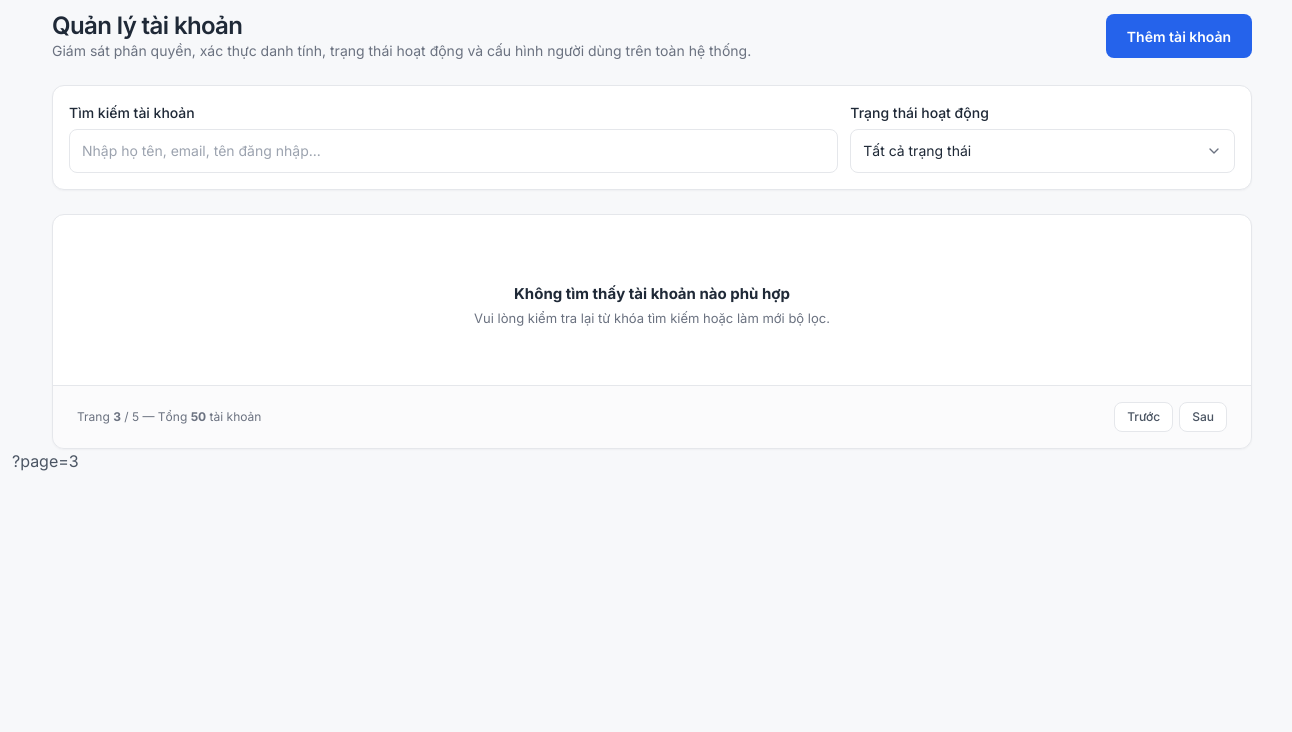
AdminAccountsPage filters live in the URL › changing a filter updates the URL and goes back to the first page
Select "Đang hoạt động" in the dropdown labelled "Trạng thái hoạt động": (1043, 151) x1=850 y1=129 x2=1235 y2=173
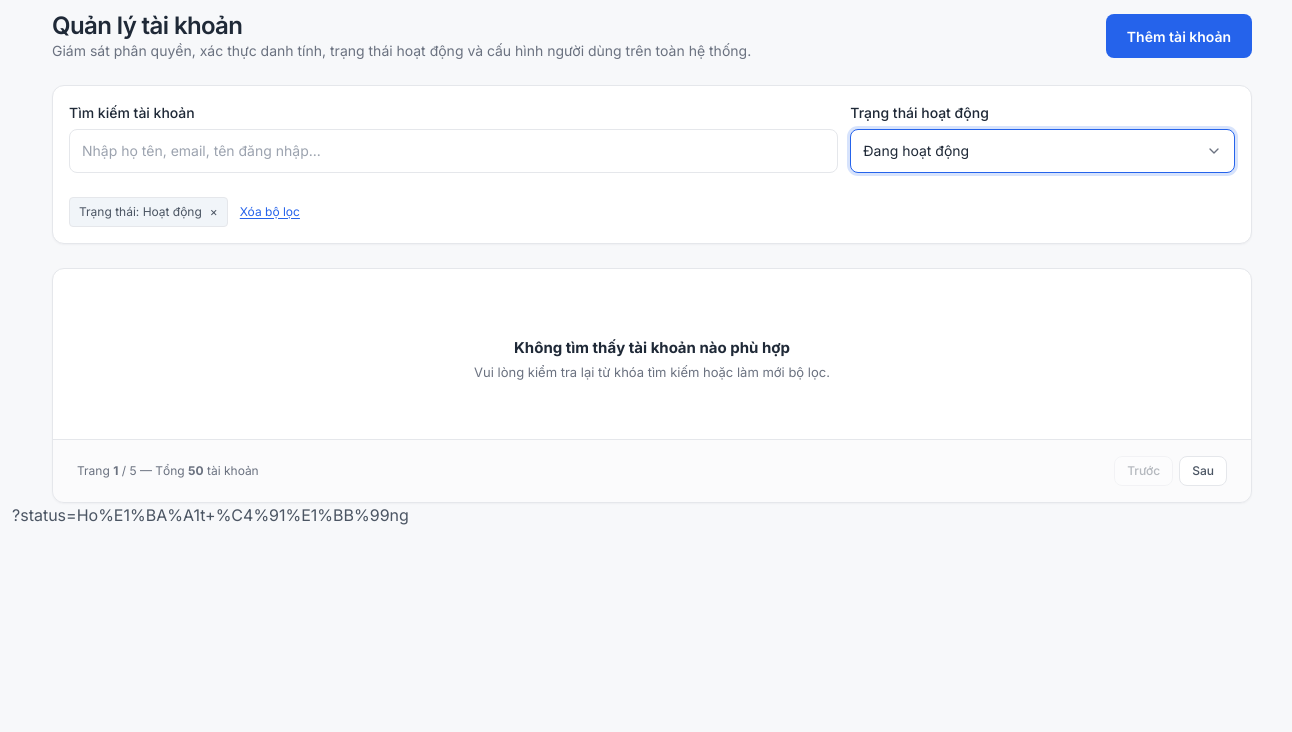
Now the text with test id "search" shows "?status=Ho", box x1=12 y1=505 x2=409 y2=525
Now the text with test id "search" no longer shows "page=", box x1=12 y1=505 x2=409 y2=525
